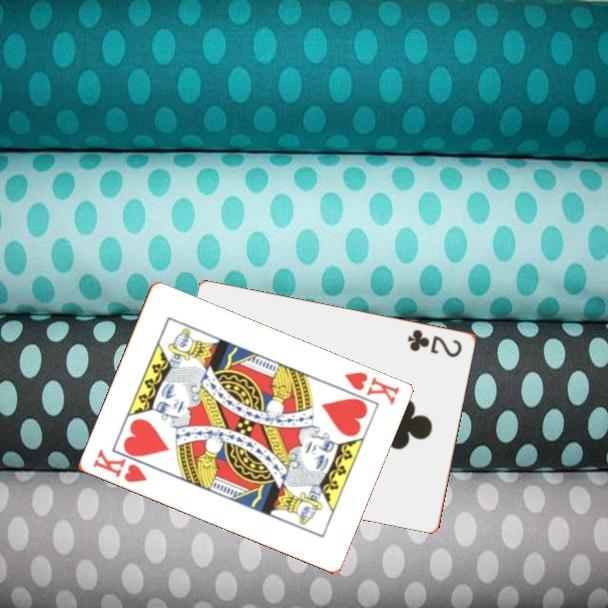c02: (404, 326, 465, 360)
h13: (340, 368, 402, 409), (89, 446, 150, 486)
